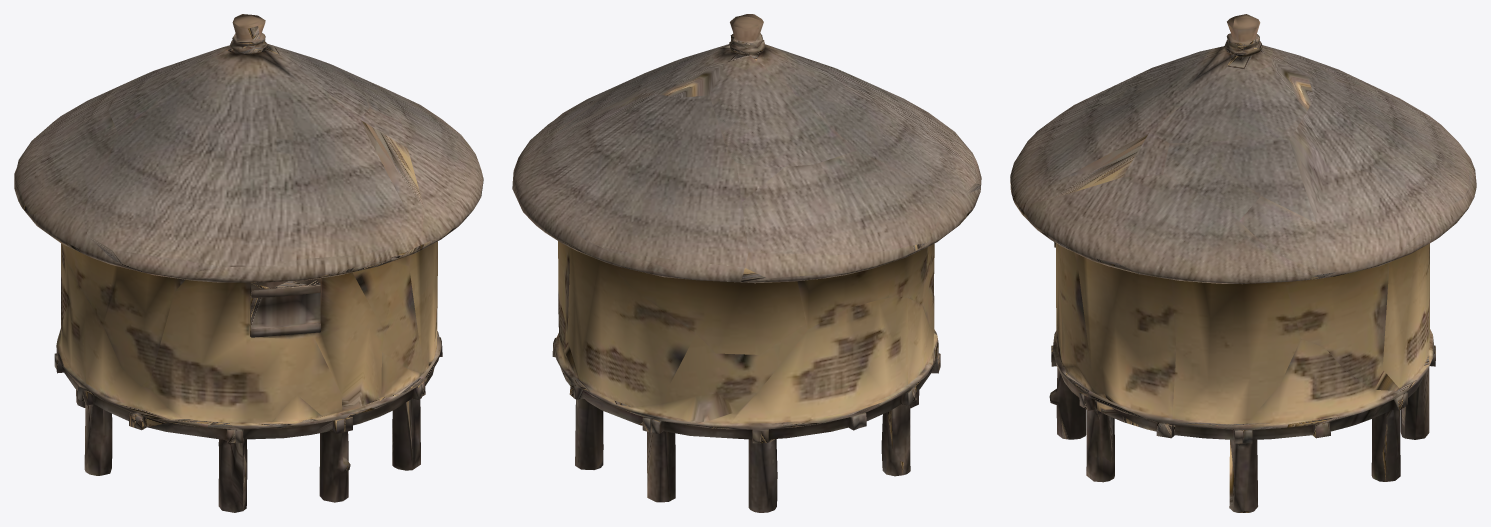
The model's file is granary_a_lod1.glb.
The picture shows the model from 3 angles, left to right: view 1: azimuth 30°, elevation 25°; view 2: azimuth 150°, elevation 25°; view 3: azimuth 270°, elevation 25°; orthographic projection.
Parts seen in each view (by area): view 1: node_0; view 2: node_0; view 3: node_0.
Part boxes in pixels (x1,y1,x2,y2): node_0: (14,14,483,512); node_0: (512,14,981,512); node_0: (1010,14,1476,512).
Bounding box in the file's own units: 4.1 × 3.99 × 4.08.
1 material, 1 textured.
